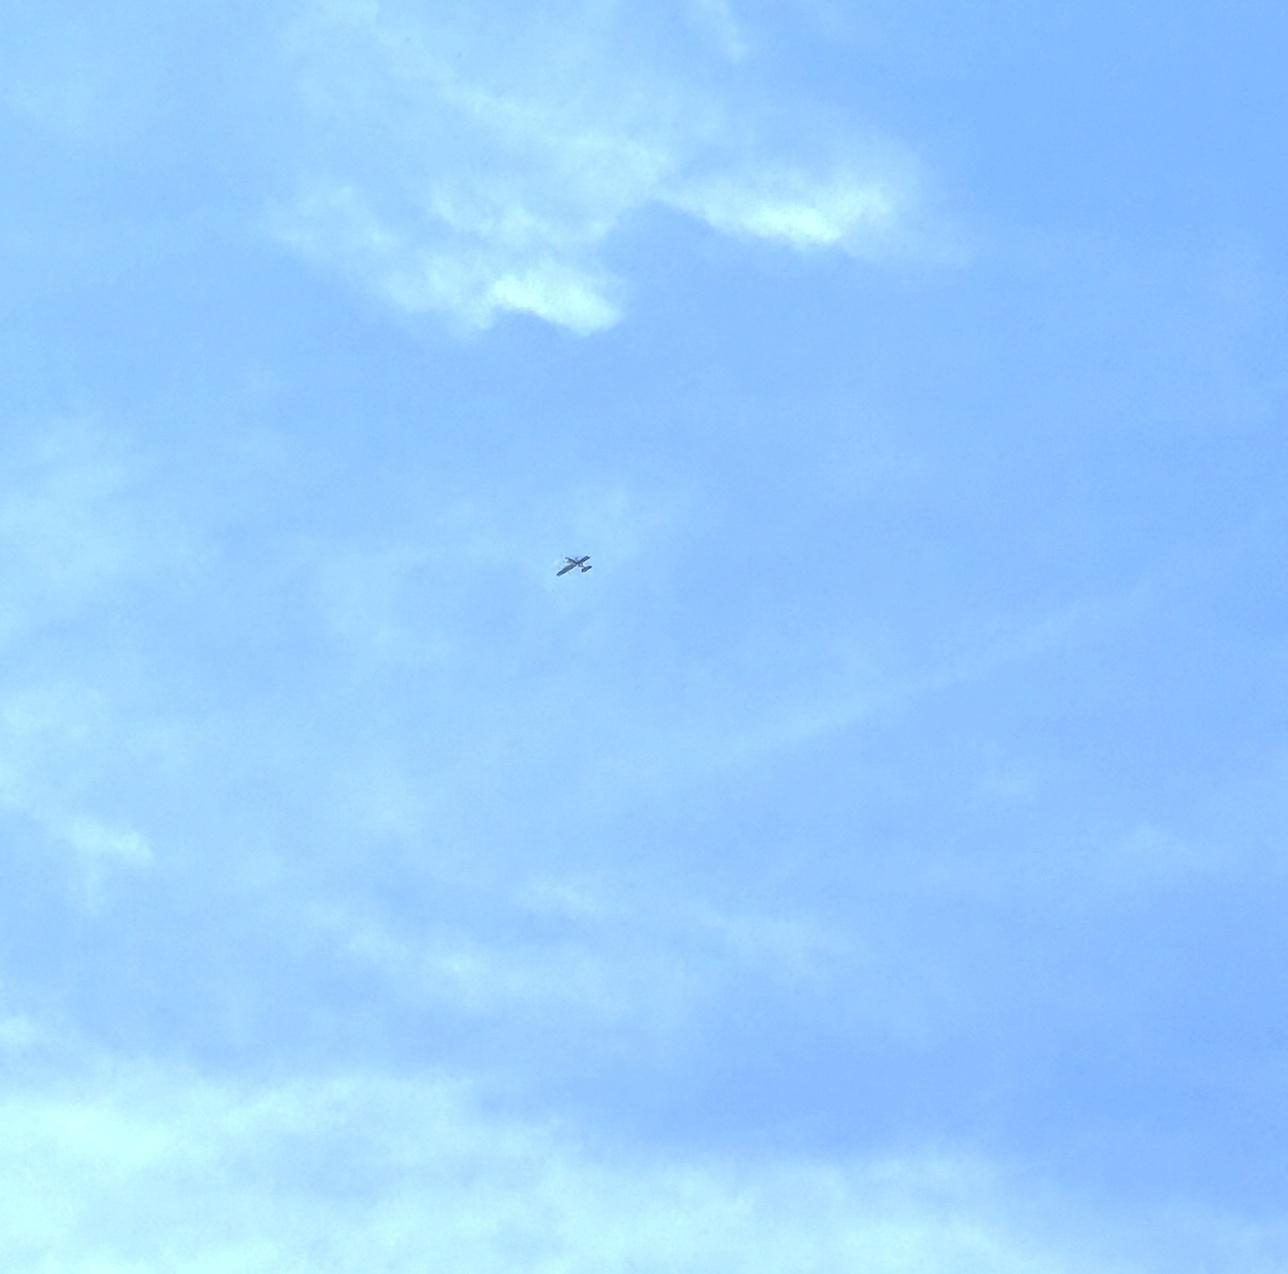Plane: (535, 535, 611, 596)
